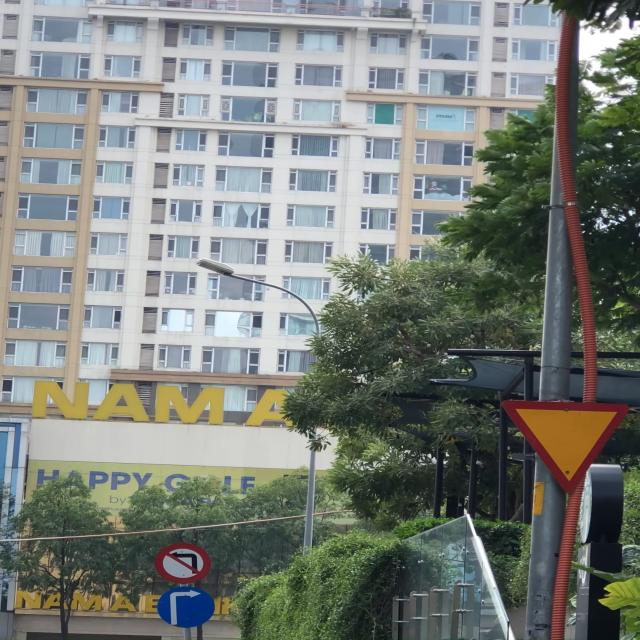Bien bao cam re trai: (153, 542, 218, 584)
Bien bao giao nhau voi duong uu tien: (494, 394, 636, 495)
Bien bao huong di phai theo: (156, 582, 220, 630)
